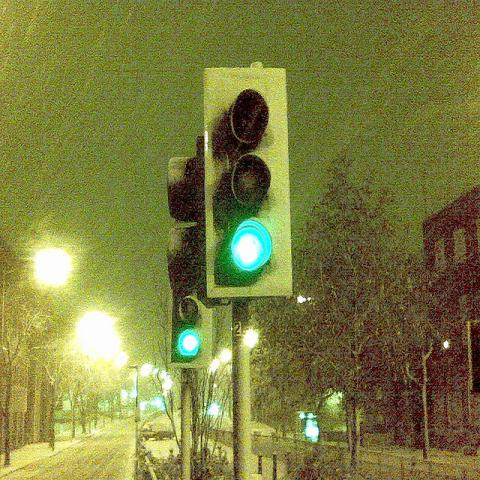car: (140, 425, 175, 441)
